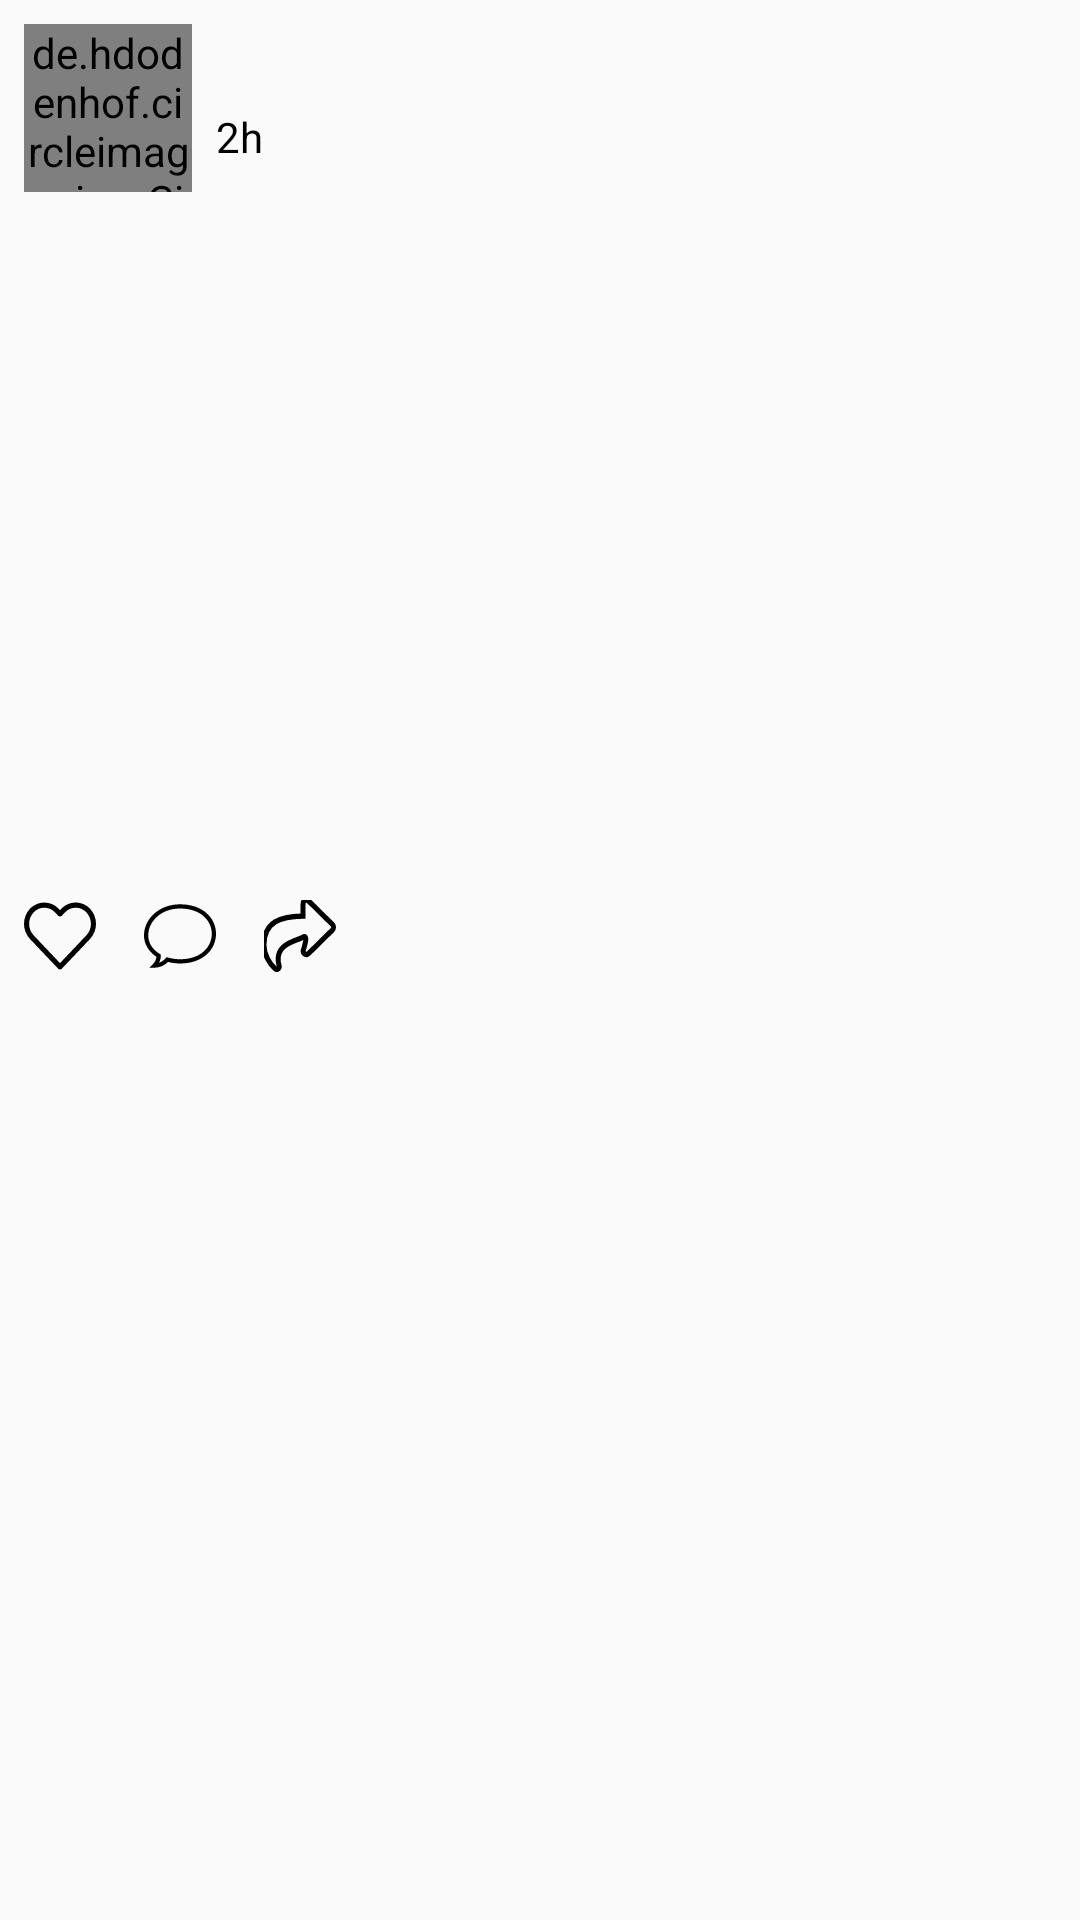

Screen size 1080*1920. Icon name, then its box in pixels as {"x1": x1, "y1": y1, "x2": x2, "y2": y2}:
comment: {"x1": 144, "y1": 904, "x2": 216, "y2": 968}
share: {"x1": 264, "y1": 900, "x2": 336, "y2": 972}
